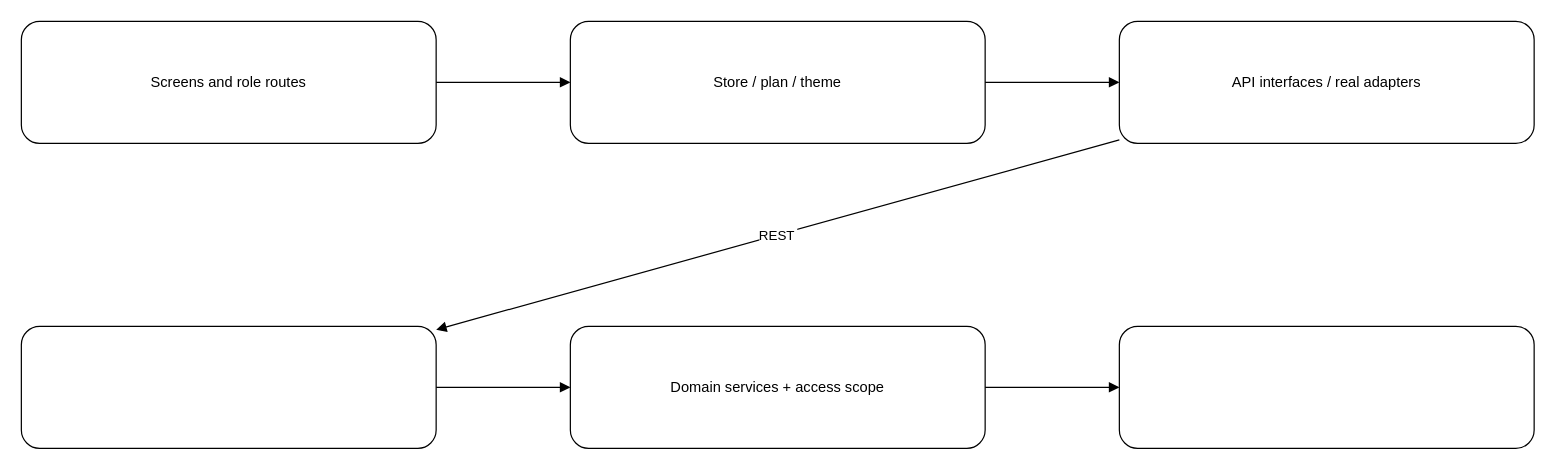
Some shapes in this 1556 by 470 pixel diagram are drawn without their labels. The shapes that lost their labels are listed below. From the top down, each one's box as (x1, y1, x2, y2) in pixels, then its label:
(20, 325, 436, 448): NestJS controllers + DTOs
(1118, 325, 1534, 448): Prisma / publisher / outbox
